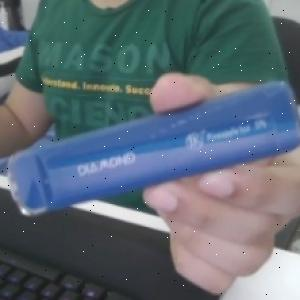Diamond-E-Ciggirate: (7, 77, 300, 219)
